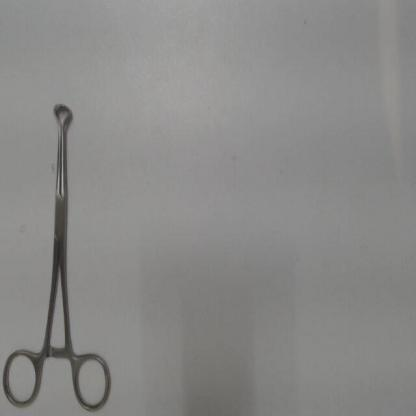Babcock Tissue Forceps: (1, 97, 116, 414)
